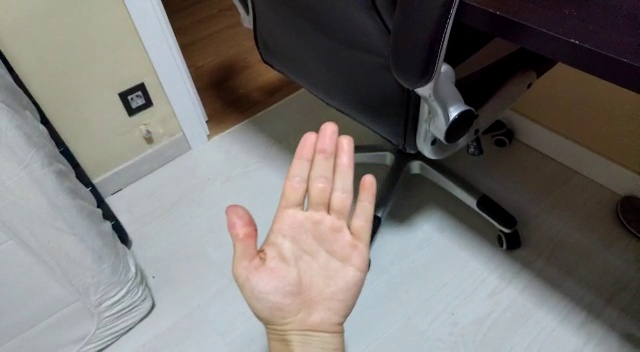Palm: (221, 121, 384, 341)
